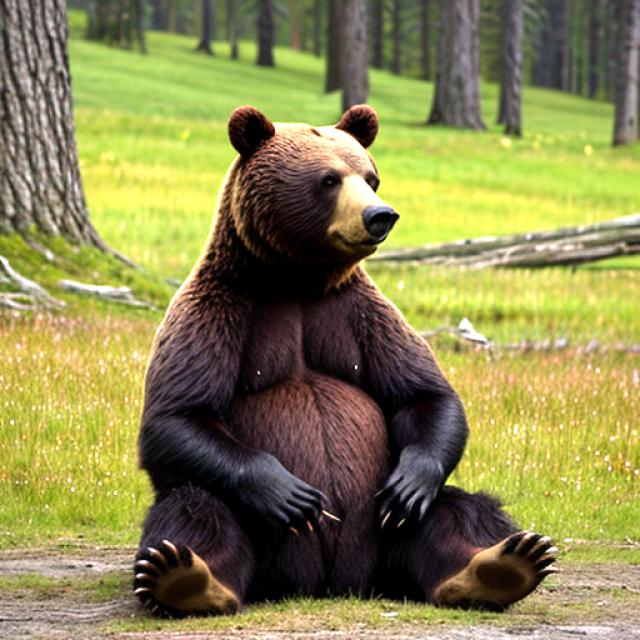bear: (180, 108, 418, 306)
